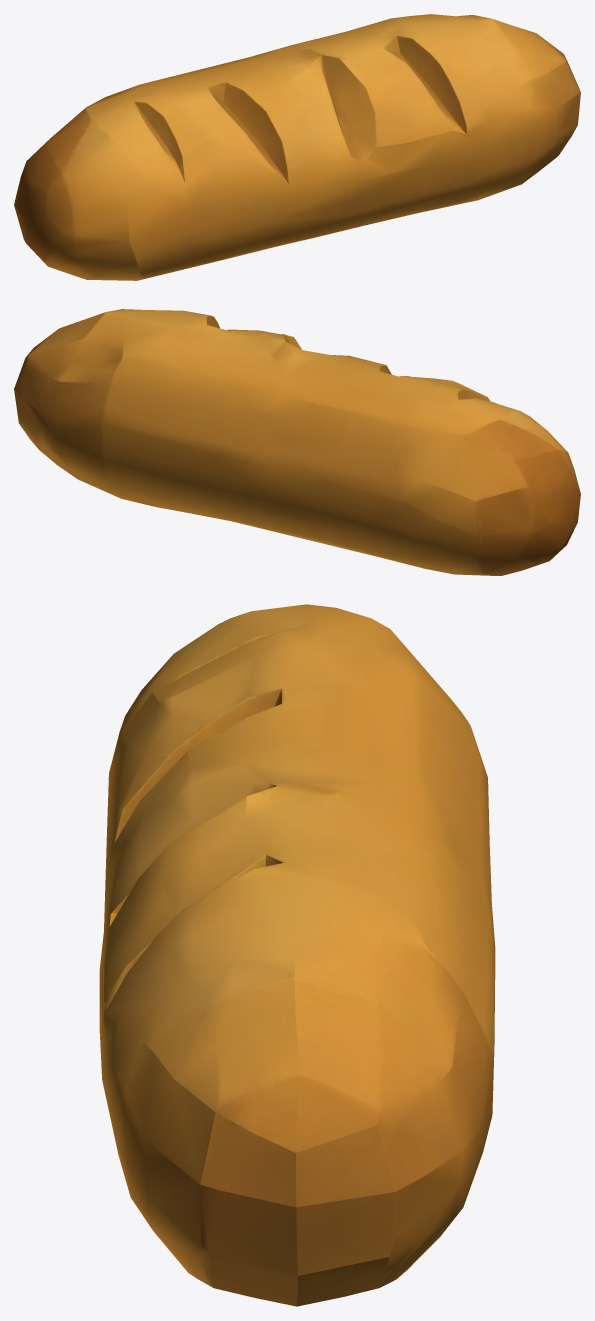
The model's file is baguette.glb.
The picture shows the model from 3 angles, top to bottom: view 1: azimuth 30°, elevation 25°; view 2: azimuth 150°, elevation 25°; view 3: azimuth 270°, elevation 25°; orthographic projection. The views are drawn at different scales.
Parts seen in each view (by area): view 1: model; view 2: model; view 3: model.
Part boxes in pixels (<box>): model: <box>14,14,580,280</box>; model: <box>14,309,580,575</box>; model: <box>99,604,495,1306</box>.
Size of the model in its own units: 1.9 by 0.5887 by 0.6002.
Materials: 1 (1 with a texture image).
